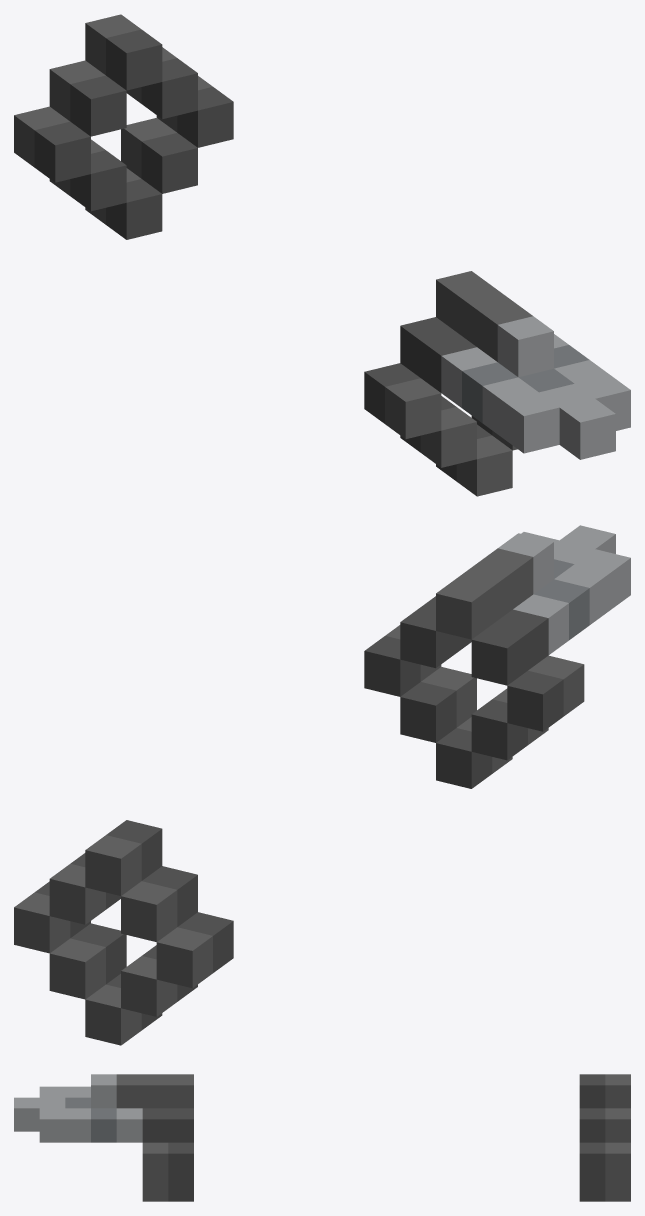
Rendered from Brazo Conejo.obj.
3 renders of one model, top to bottom at view 1: azimuth 30°, elevation 25°; view 2: azimuth 150°, elevation 25°; view 3: azimuth 270°, elevation 25°, orthographic. The views are drawn at different scales.
Bounding box in the file's own units: 0.5 × 0.5 × 2.4.
